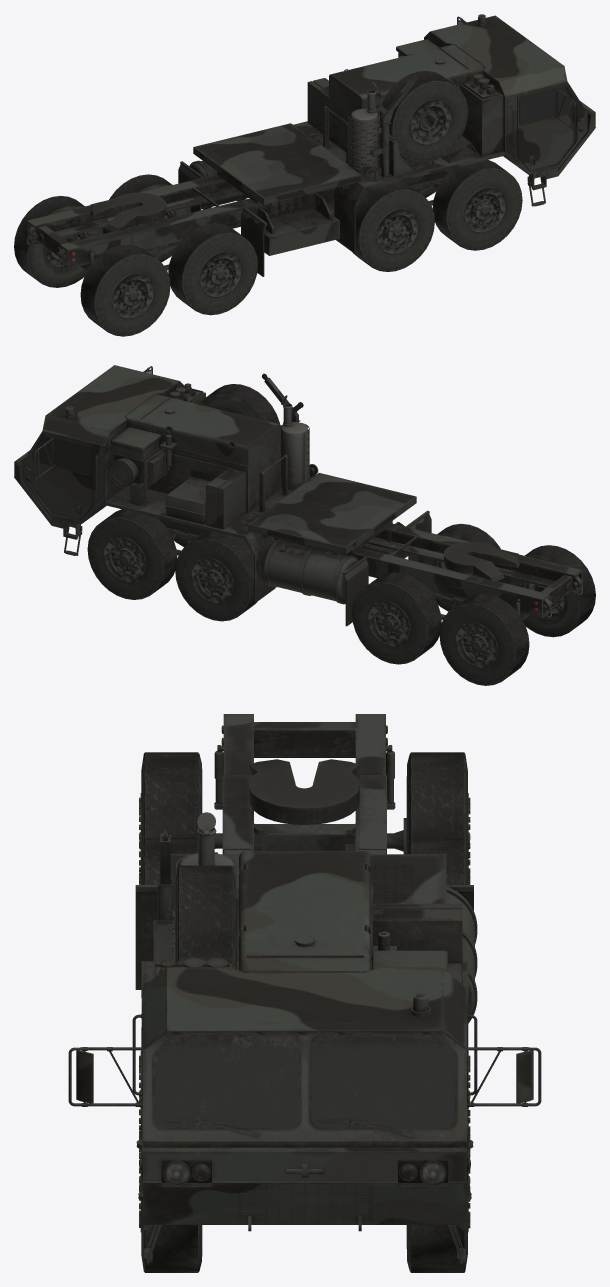
File: truck.fbx
3 renders of one model, top to bottom at view 1: azimuth 30°, elevation 25°; view 2: azimuth 150°, elevation 25°; view 3: azimuth 270°, elevation 25°, orthographic. The views are drawn at different scales.
Parts seen in each view (by area): view 1: chassis, cabine, roue_07, roue_06, roue_droite_01, roue_05, wheel, roue_04, roue_03; view 2: cabine, chassis, roue_04, roue_03, roue_gauche_01, roue_02, roue_07, wheel, roue_06; view 3: cabine, chassis, wheel, roue_04, roue_07, roue_droite_01, roue_gauche_01, roue_03, roue_06.
Part boxes in pixels (x1,y1,x2,y2): chassis: (27, 121, 504, 276); cabine: (307, 14, 595, 206); roue_07: (80, 244, 170, 336); roue_06: (168, 223, 257, 315); roue_droite_01: (432, 160, 522, 250); roue_05: (352, 181, 434, 271); wheel: (379, 71, 468, 162); roue_04: (14, 196, 103, 287); roue_03: (103, 174, 191, 262); cabine: (14, 365, 318, 555); chassis: (105, 473, 582, 626); roue_04: (439, 594, 529, 685); roue_03: (352, 572, 441, 664); roue_gauche_01: (87, 509, 177, 599); roue_02: (175, 530, 256, 621); roue_07: (506, 545, 595, 637); wheel: (199, 384, 279, 423); roue_06: (419, 523, 506, 611); cabine: (68, 812, 541, 1263); chassis: (135, 714, 477, 1102); wheel: (172, 865, 236, 968); roue_04: (406, 752, 470, 883); roue_07: (139, 752, 202, 883); roue_droite_01: (139, 1111, 202, 1272); roue_gauche_01: (406, 1136, 470, 1272); roue_03: (407, 838, 470, 884); roue_06: (139, 838, 198, 997).
Size of the model in its own units: 10.64 by 4.26 by 3.69.
Materials: 3 (3 with a texture image).
